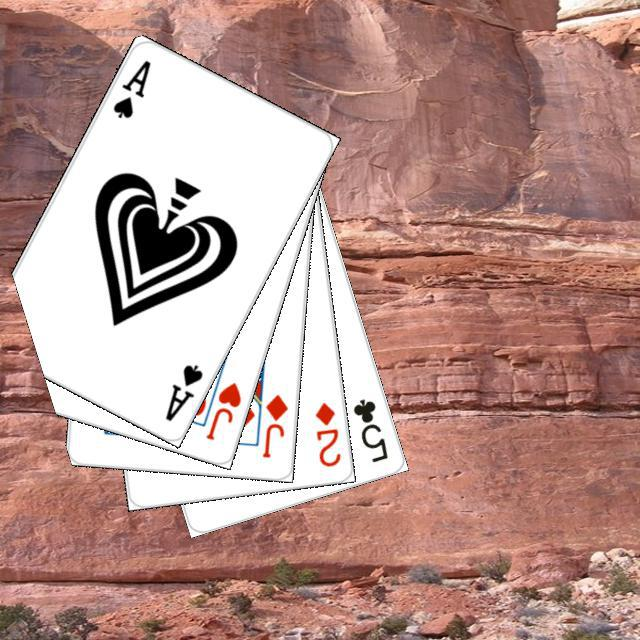2d: (310, 397, 343, 469)
5c: (348, 393, 390, 464)
As: (107, 55, 153, 120), (160, 359, 205, 423)
Jd: (257, 389, 290, 460)
Jh: (201, 377, 243, 442)
